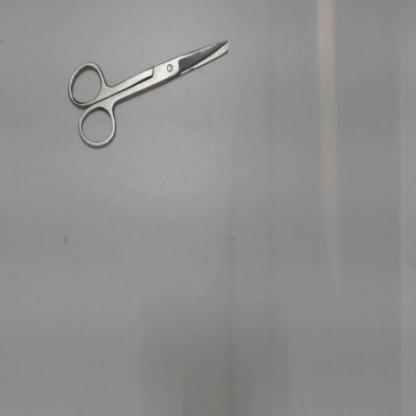Dressing Scissors: (58, 29, 240, 157)
